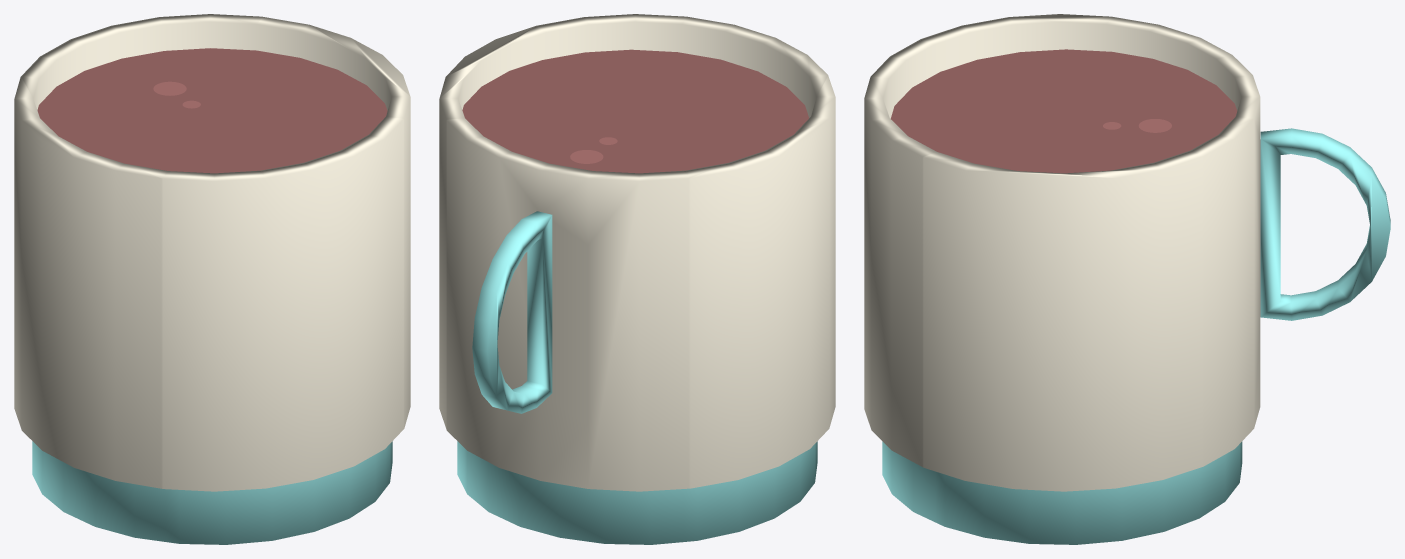
The picture shows the model from 3 angles, left to right: view 1: azimuth 30°, elevation 25°; view 2: azimuth 150°, elevation 25°; view 3: azimuth 270°, elevation 25°; orthographic projection.
Parts seen in each view (by area): view 1: mesh2_mesh2-geometry, mesh1_mesh1-geometry_1, mesh3_mesh3-geometry, mesh1_mesh1-geometry_2; view 2: mesh2_mesh2-geometry, mesh1_mesh1-geometry_1, mesh3_mesh3-geometry, mesh2_mesh2-geometry_2, mesh1_mesh1-geometry_2; view 3: mesh2_mesh2-geometry, mesh1_mesh1-geometry_1, mesh3_mesh3-geometry, mesh2_mesh2-geometry_2.
Part boxes in pixels (x1,y1,x2,y2): mesh2_mesh2-geometry: (14,14,410,491); mesh1_mesh1-geometry_1: (37,48,387,173); mesh3_mesh3-geometry: (32,441,392,544); mesh1_mesh1-geometry_2: (153,81,200,108); mesh2_mesh2-geometry: (439,14,835,491); mesh1_mesh1-geometry_1: (462,49,808,173); mesh3_mesh3-geometry: (457,441,817,544); mesh2_mesh2-geometry_2: (472,211,552,413); mesh1_mesh1-geometry_2: (570,137,617,163); mesh2_mesh2-geometry: (864,14,1260,491); mesh1_mesh1-geometry_1: (890,49,1237,173); mesh3_mesh3-geometry: (882,441,1242,544); mesh2_mesh2-geometry_2: (1260,128,1390,320).
Bounding box in the file's own units: 0.5105 × 0.528 × 0.6787.
